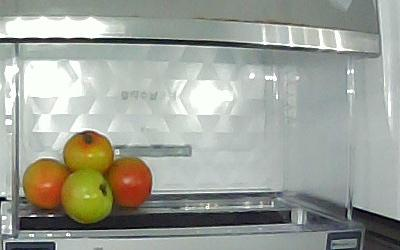tomato: (59, 170, 114, 223), (21, 158, 74, 210), (105, 158, 153, 206), (63, 132, 114, 174)
